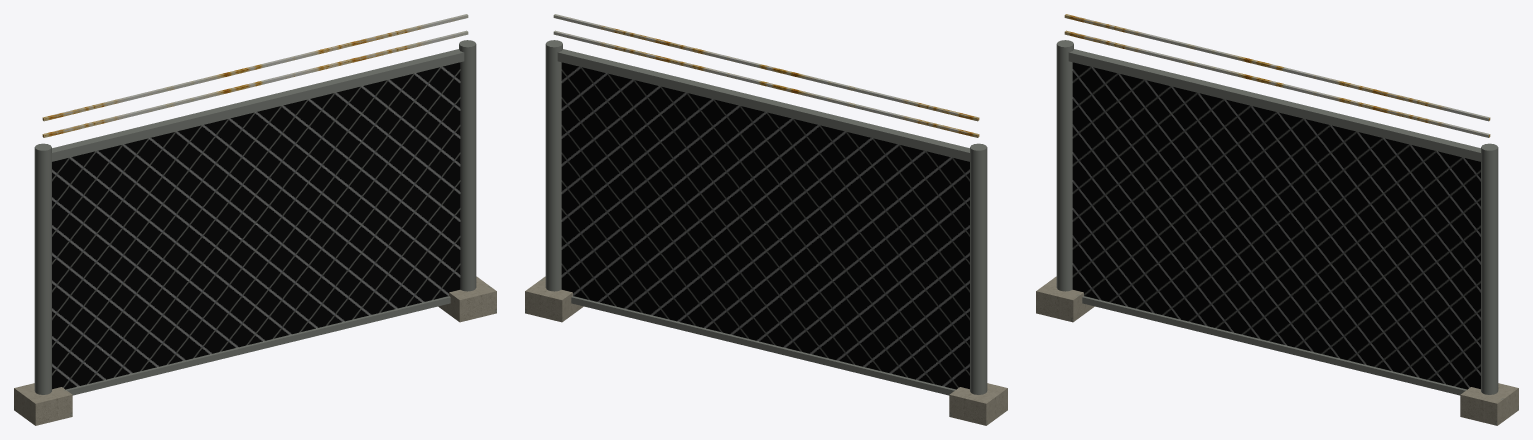
The model's file is fence_section.glb.
3 renders of one model, left to right at view 1: azimuth 30°, elevation 25°; view 2: azimuth 150°, elevation 25°; view 3: azimuth 330°, elevation 25°, orthographic.
Parts seen in each view (by area): view 1: Chainlink_mesh_separate, Fence_top_rail, Fence_post_-2.0, Fence_post_2.0, Fence_bottom_rail, Barbed_wire_run_2.65, Barbed_wire_run_2.5, Fence_post_foot_-2.0, Fence_post_foot_2.0; view 2: Chainlink_mesh_separate, Fence_top_rail, Fence_post_-2.0, Fence_post_2.0, Fence_bottom_rail, Barbed_wire_run_2.65, Barbed_wire_run_2.5, Fence_post_foot_-2.0, Fence_post_foot_2.0; view 3: Chainlink_mesh_separate, Fence_top_rail, Fence_post_2.0, Fence_post_-2.0, Fence_bottom_rail, Barbed_wire_run_2.65, Barbed_wire_run_2.5, Fence_post_foot_2.0, Fence_post_foot_-2.0.
Part boxes in pixels (x1,y1,x2,y2): Chainlink_mesh_separate: (52,62,460,389); Fence_top_rail: (51,49,464,161); Fence_post_-2.0: (34,143,51,394); Fence_post_2.0: (459,40,476,291); Fence_bottom_rail: (66,296,450,395); Barbed_wire_run_2.65: (42,14,468,121); Barbed_wire_run_2.5: (42,30,468,137); Fence_post_foot_-2.0: (14,383,72,425); Fence_post_foot_2.0: (438,276,496,322); Chainlink_mesh_separate: (561,62,969,389); Fence_top_rail: (557,49,970,161); Fence_post_-2.0: (970,143,987,394); Fence_post_2.0: (545,40,562,291); Fence_bottom_rail: (571,296,955,395); Barbed_wire_run_2.65: (553,14,979,121); Barbed_wire_run_2.5: (553,30,979,137); Fence_post_foot_-2.0: (949,383,1007,425); Fence_post_foot_2.0: (525,276,583,322); Chainlink_mesh_separate: (1072,62,1480,389); Fence_top_rail: (1068,49,1481,161); Fence_post_2.0: (1481,143,1498,394); Fence_post_-2.0: (1056,40,1073,291); Fence_bottom_rail: (1082,296,1466,395); Barbed_wire_run_2.65: (1064,14,1490,121); Barbed_wire_run_2.5: (1064,30,1490,137); Fence_post_foot_2.0: (1460,383,1518,425); Fence_post_foot_-2.0: (1036,276,1094,322).
Size of the model in its own units: 4.35 by 2.71 by 0.35.
4 materials, 3 textured.
